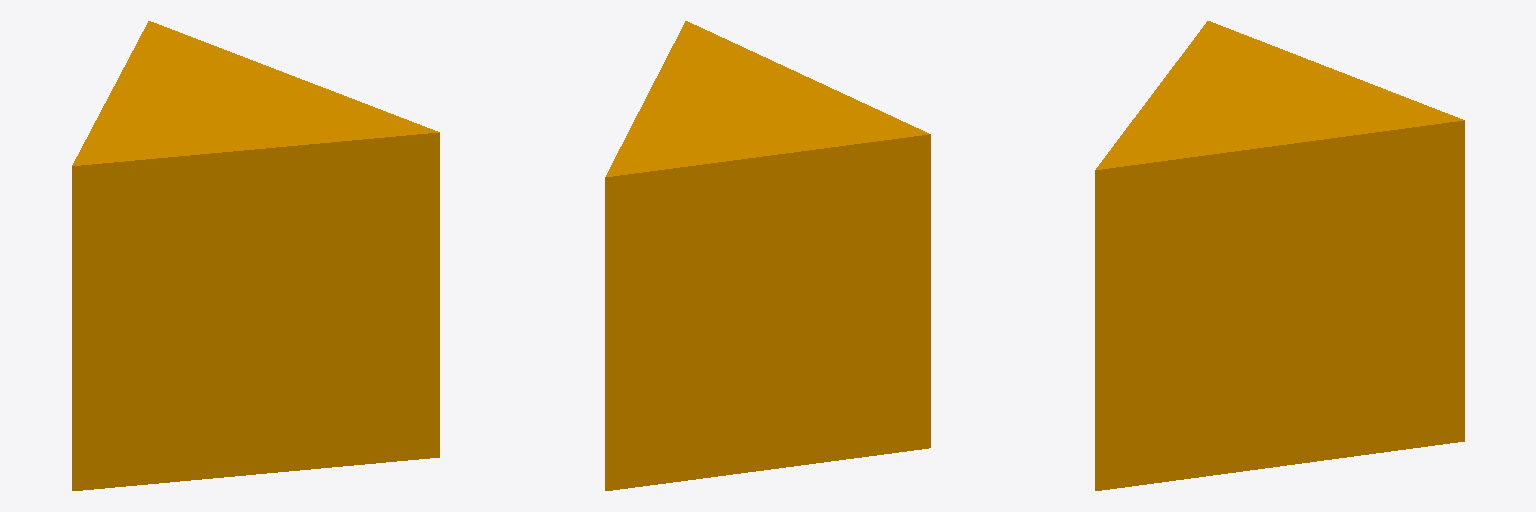
robot.urdf — object:
<?xml version="1.0"?>
<robot name="object">
  <link name="object">
    <visual>
      <origin xyz="0 0 0"/>
      <geometry>
        <mesh filename="meshes/generated/col_062.obj" scale="0.03 0.03 0.03"/>
      </geometry>
    </visual>
    <collision>
      <origin xyz="0 0 0"/>
      <geometry>
        <mesh filename="meshes/generated/col_062.obj" scale="0.03 0.03 0.03"/>
      </geometry>
    </collision>
    <inertial>
      <density value="1000.0"/>
    </inertial>
  </link>
</robot>

--- Facts derived from the render (not from the file) ---
3 views of the same robot in one strip: view 1: azimuth 30°, elevation 25°; view 2: azimuth 150°, elevation 25°; view 3: azimuth 270°, elevation 25° (orthographic).
Model object with 1 links and 0 joints (none), rooted at object, posed every joint at zero.
Links seen in each view (by area): view 1: object; view 2: object; view 3: object.
Boxes of the visible links, <box> form: object: <box>72,21,439,490</box>; object: <box>605,21,930,490</box>; object: <box>1095,21,1464,490</box>.
Bounding box of the posed robot: 0.0601 × 0.0627 × 0.06 m (x, y, z).
1 mesh visuals loaded from 1 distinct referenced files (1 OBJ).
